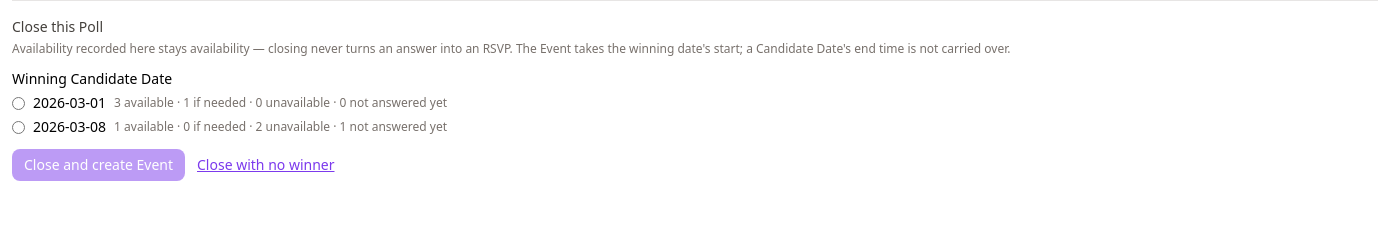
Scenario: ClosePollPanel › warns that closing with no winner creates no Event
Click the button "Close with no winner": x=266, y=165 [197,155,334,175]
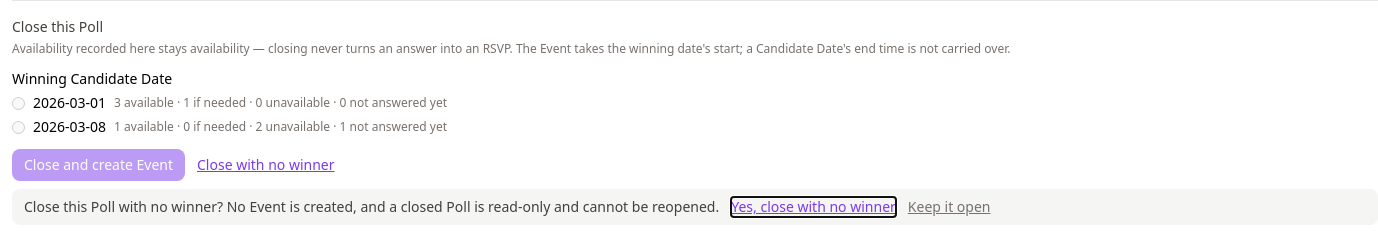
Expected: the message shows "Close this Poll with no winner? No Event is created, and a closed Poll is read-only and cannot be reopened.", [24,197,719,216]
